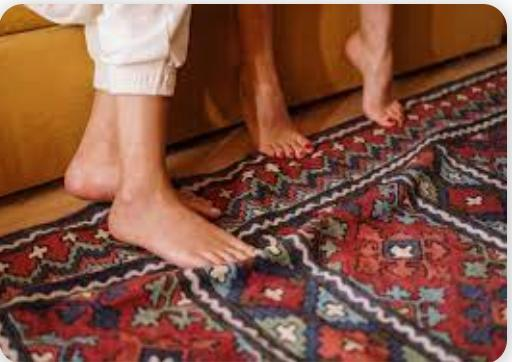carpet: (0, 67, 508, 362)
